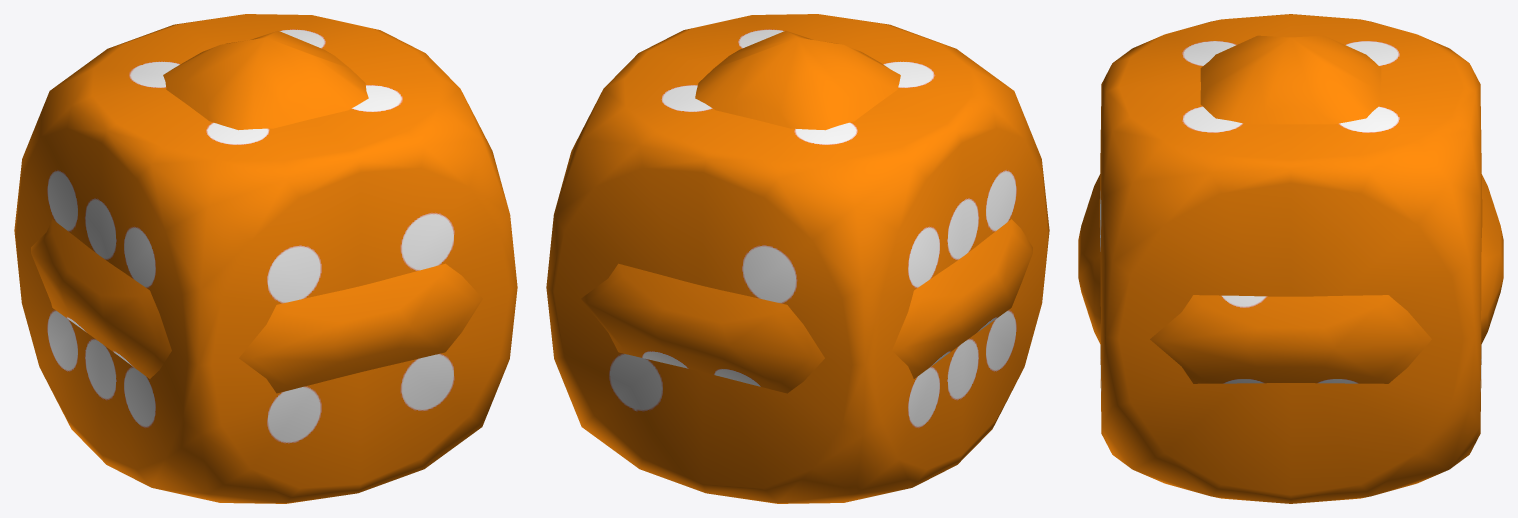
The model's file is dice.fbx.
3 views of the same model, side by side, from view 1: azimuth 30°, elevation 25°; view 2: azimuth 150°, elevation 25°; view 3: azimuth 270°, elevation 25° (orthographic).
Visible parts, largest first — view 1: Regular_Dice, Octo_Dice; view 2: Regular_Dice, Octo_Dice; view 3: Regular_Dice, Octo_Dice.
Boxes of the visible parts, x1,y1,x2,y2 form: Regular_Dice: (14, 14, 517, 503); Octo_Dice: (31, 30, 482, 393); Regular_Dice: (546, 14, 1049, 503); Octo_Dice: (581, 30, 1032, 393); Regular_Dice: (1099, 14, 1482, 503); Octo_Dice: (1078, 35, 1503, 383).
Bounding box in the file's own units: 0.5124 × 0.5887 × 0.5124.
Materials: 2 (2 with a texture image).
